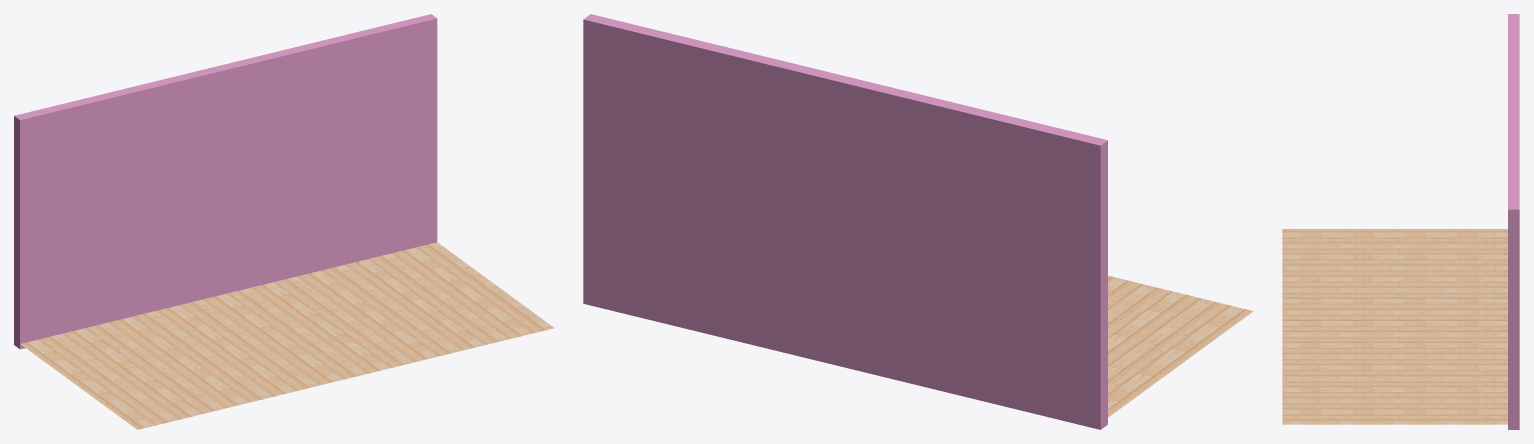
File: jelly-world.glb
3 views of the same model, side by side, from view 1: azimuth 30°, elevation 25°; view 2: azimuth 150°, elevation 25°; view 3: azimuth 270°, elevation 25° (orthographic). The views are drawn at different scales.
Visible parts, largest first — view 1: Cube, Plane; view 2: Cube, Plane; view 3: Plane, Cube.
Part boxes in pixels (left/top/right/bottom): Cube: left=14, top=14, right=437, bottom=349; Plane: left=20, top=242, right=554, bottom=429; Cube: left=583, top=14, right=1107, bottom=429; Plane: left=1108, top=275, right=1253, bottom=417; Plane: left=1282, top=229, right=1507, bottom=424; Cube: left=1508, top=14, right=1519, bottom=429.
Bounding box in the file's own units: 4 × 2.1 × 2.05.
Materials: 2 (2 with a texture image).
